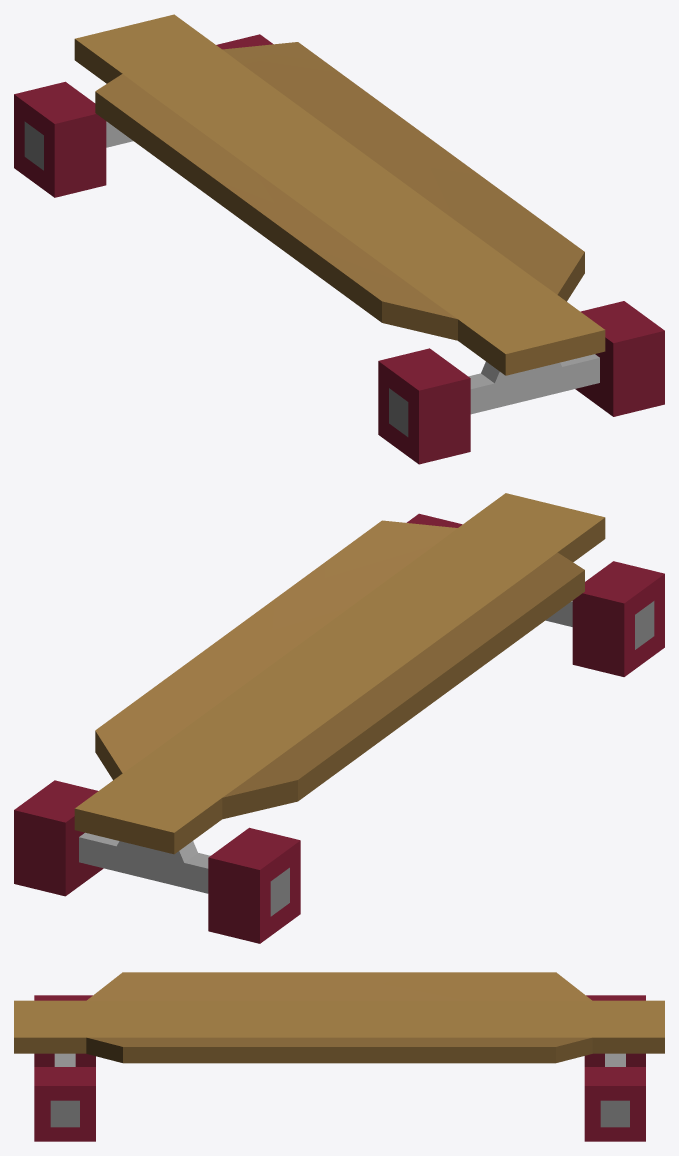
File: lONGBOARD6.fbx
The picture shows the model from 3 angles, top to bottom: view 1: azimuth 30°, elevation 25°; view 2: azimuth 150°, elevation 25°; view 3: azimuth 270°, elevation 25°; orthographic projection. The views are drawn at different scales.
Parts seen in each view (by area): view 1: Items_Longboard_01; view 2: Items_Longboard_01; view 3: Items_Longboard_01.
Boxes of the visible parts, <box> form: Items_Longboard_01: <box>14,14,664,464</box>; Items_Longboard_01: <box>14,493,664,943</box>; Items_Longboard_01: <box>14,972,664,1141</box>.
Bounding box in the file's own units: 68.21 × 30.49 × 207.
Materials: 1 (1 with a texture image).
